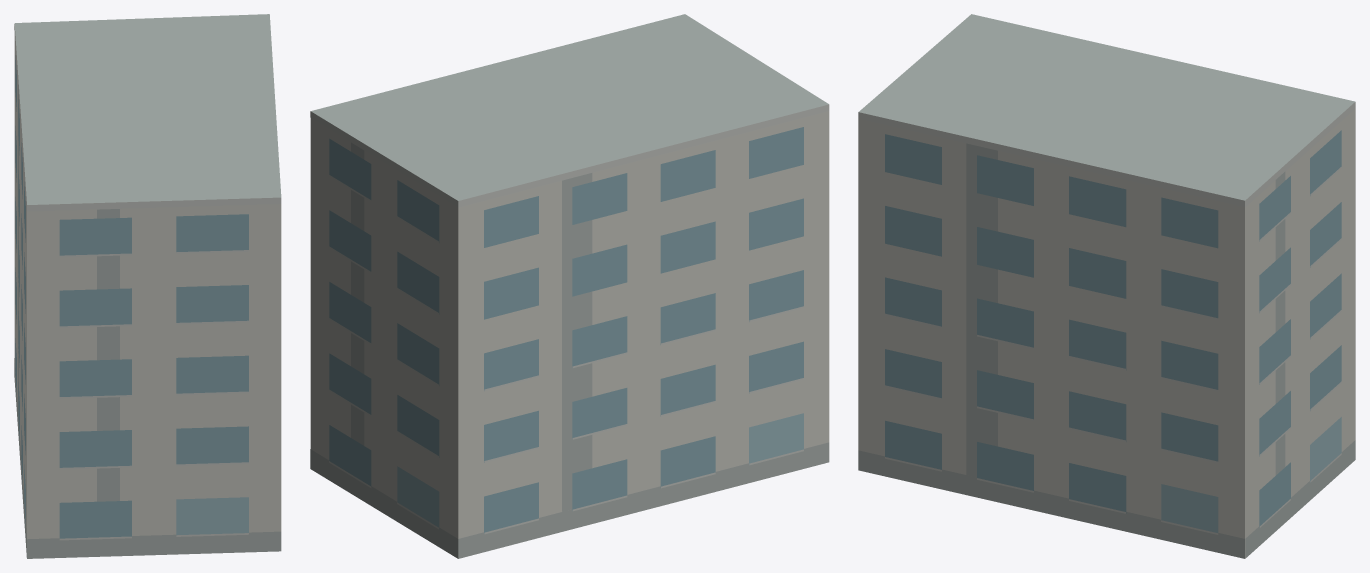
File: survey-upis-32886608.glb
3 renders of one model, left to right at view 1: azimuth 30°, elevation 25°; view 2: azimuth 150°, elevation 25°; view 3: azimuth 270°, elevation 25°, orthographic.
Parts seen in each view (by area): view 1: survey-upis-32886608.tmp; view 2: survey-upis-32886608.tmp; view 3: survey-upis-32886608.tmp.
Part boxes in pixels (x1,y1,x2,y2): survey-upis-32886608.tmp: (14, 14, 281, 558); survey-upis-32886608.tmp: (310, 14, 829, 558); survey-upis-32886608.tmp: (858, 14, 1355, 558).
Bounding box in the file's own units: 14.76 × 13.2 × 16.61.
